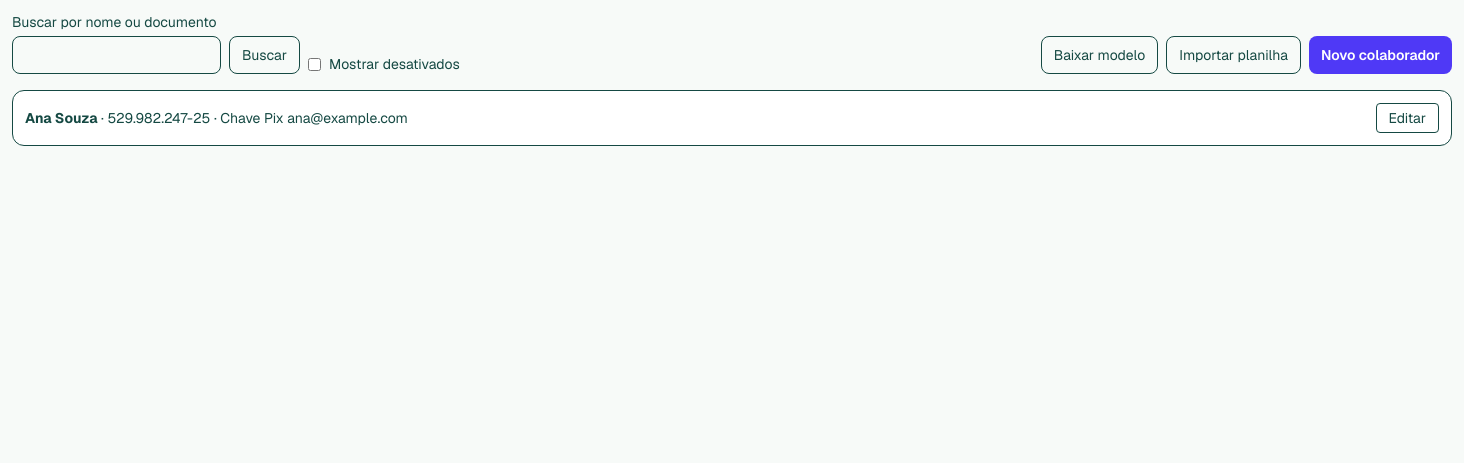
RecipientsPanel › an edit with an old version reloads instead of overwriting
Click the button "Editar". click: [1407, 118]
box: x1=1376 y1=103 x2=1439 y2=133
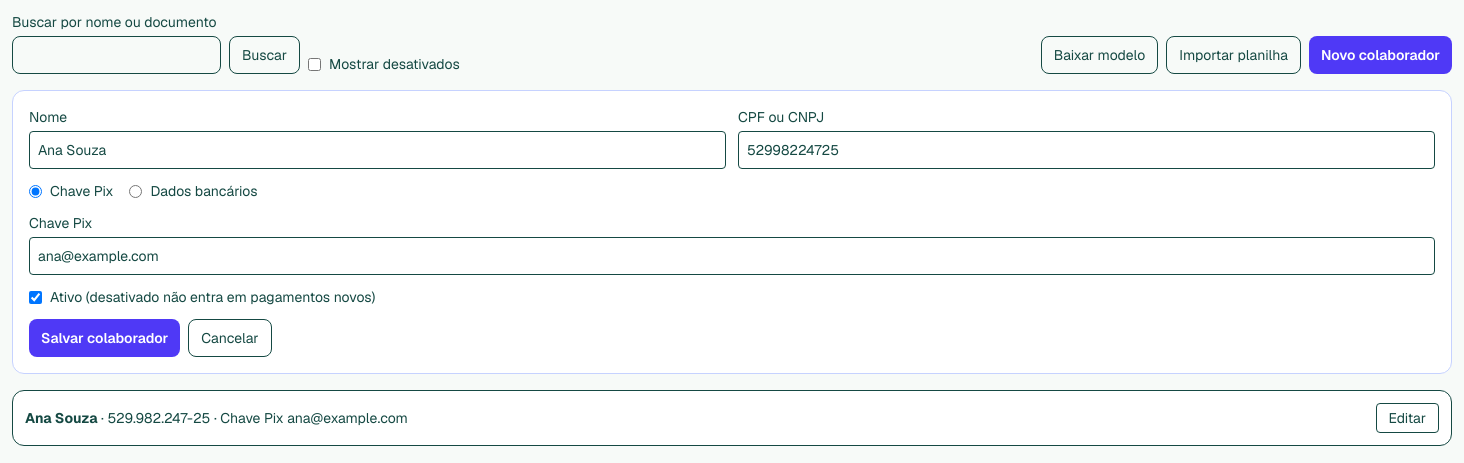
Submit the form named "Editar colaborador"
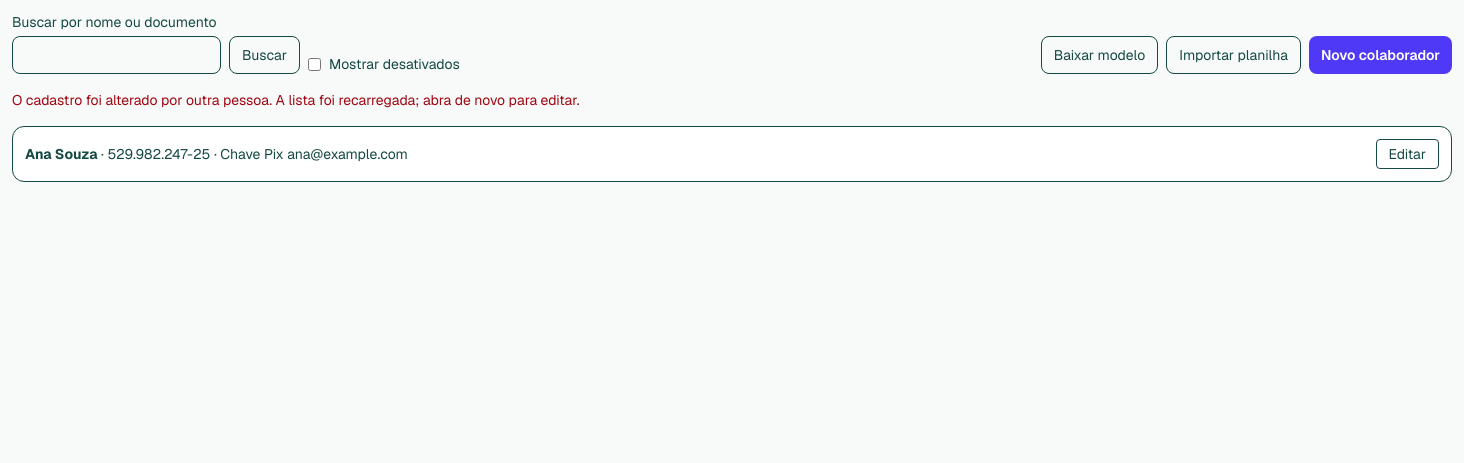
Check: the message shows "O cadastro foi alterado por outra pessoa", box x1=12 y1=91 x2=580 y2=109
